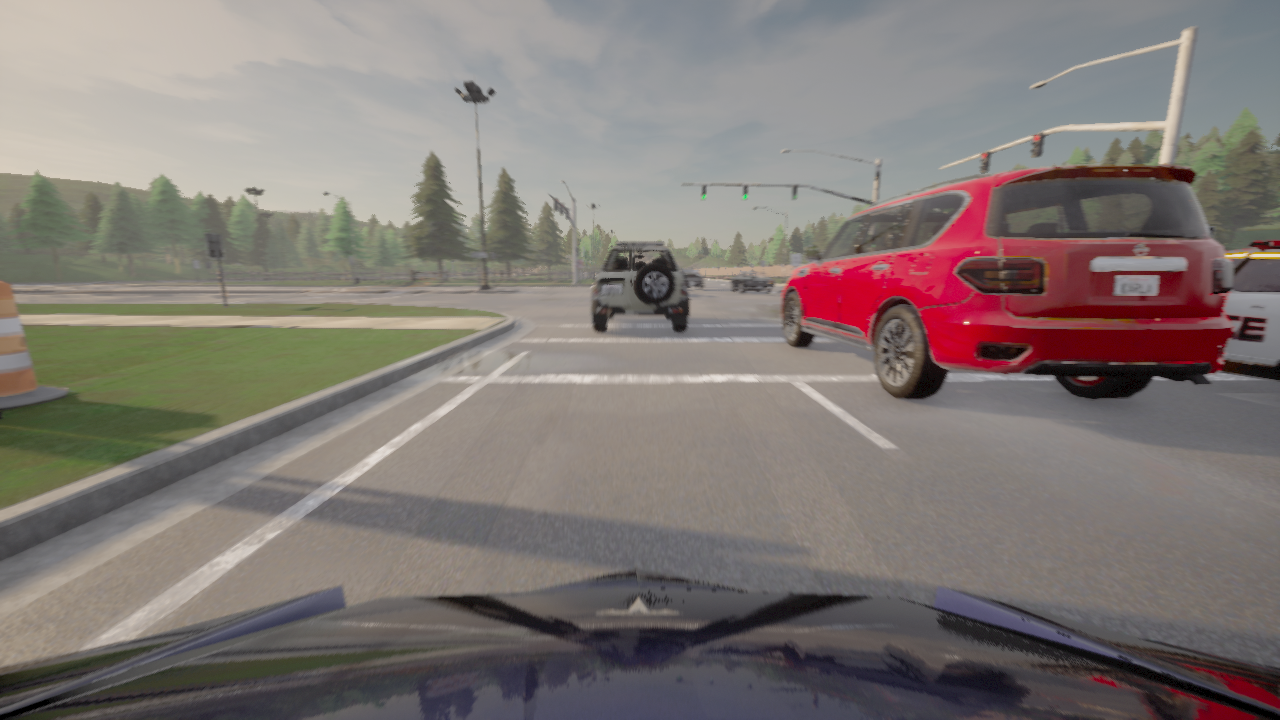cyclist: (0, 569, 1279, 719), (781, 165, 1233, 399), (591, 243, 689, 331), (1219, 240, 1279, 381), (731, 272, 775, 292), (680, 269, 703, 290)
